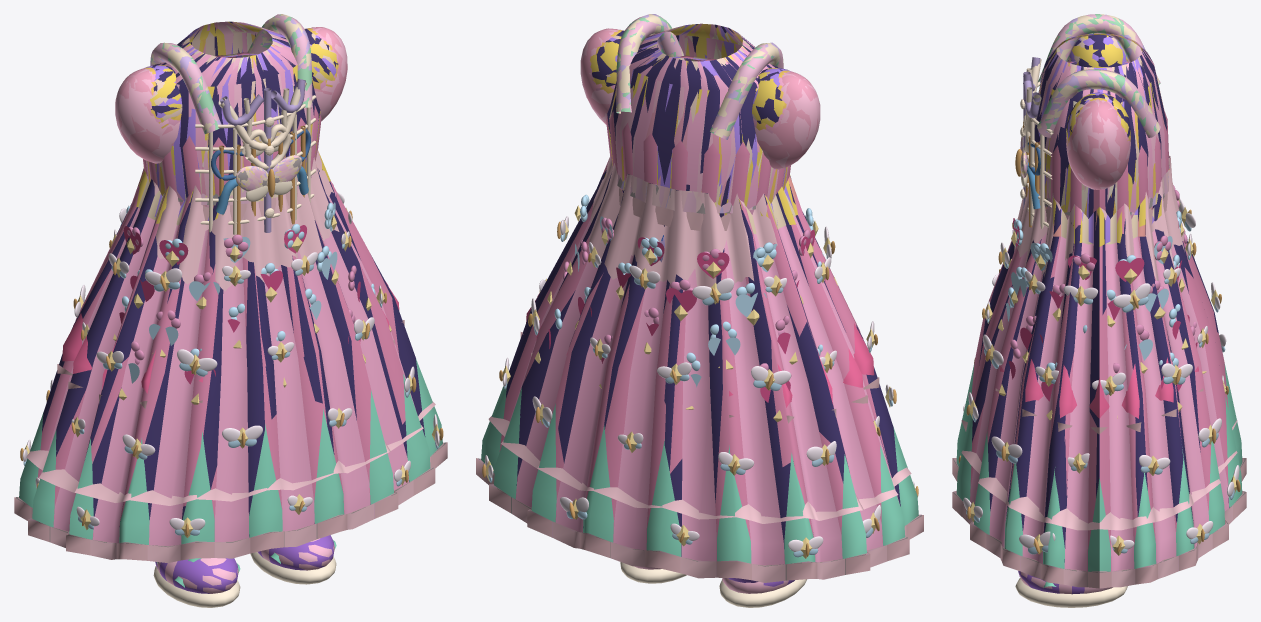
The model's file is wardrobe.glb.
3 renders of one model, left to right at view 1: azimuth 30°, elevation 25°; view 2: azimuth 150°, elevation 25°; view 3: azimuth 270°, elevation 25°, orthographic. The views are drawn at different scales.
Parts seen in each view (by area): view 1: dress_princesa, dress_borboleta, dress_noite, bottom_longa, dress_coracao, dress_flores, shoe_bailarina, dress_rodado, dress_festa, dress_arcoIris, shoe_bota, top_camisaXadrez (+8 smaller); view 2: dress_princesa, dress_borboleta, dress_noite, bottom_longa, dress_coracao, dress_flores, dress_rodado, top_camisaXadrez, shoe_bailarina, dress_festa, bottom_saia, top_blusa (+2 smaller); view 3: dress_princesa, dress_borboleta, dress_noite, bottom_longa, dress_coracao, dress_flores, dress_rodado, top_camisaXadrez, bottom_saia, shoe_bailarina, dress_festa, dress_arcoIris (+4 smaller).
Boxes of the visible parts, x1,y1,x2,y2 form: dress_princesa: (18,21,443,562); dress_borboleta: (20,14,443,557); dress_noite: (16,21,445,547); bottom_longa: (14,192,447,560); dress_coracao: (115,22,360,384); dress_flores: (122,14,375,364); shoe_bailarina: (153,538,336,607); dress_rodado: (113,23,391,404); dress_festa: (145,23,336,220); dress_arcoIris: (137,26,335,211); shoe_bota: (155,535,333,593); top_camisaXadrez: (115,21,347,206); dress_princesa: (480,24,919,582); dress_borboleta: (478,15,921,577); dress_noite: (478,24,921,580); bottom_longa: (476,187,923,580); dress_coracao: (548,24,825,402); dress_flores: (554,14,823,371); dress_rodado: (535,24,837,422); top_camisaXadrez: (581,23,818,215); shoe_bailarina: (620,562,806,607); dress_festa: (609,24,793,225); bottom_saia: (520,206,879,423); top_blusa: (590,24,789,203); dress_princesa: (954,34,1244,587); dress_borboleta: (953,14,1240,572); dress_noite: (953,33,1245,586); bottom_longa: (952,196,1246,588); dress_coracao: (1005,35,1197,401); dress_flores: (1008,14,1196,373); dress_rodado: (998,34,1206,419); top_camisaXadrez: (1046,34,1165,209); bottom_saia: (995,209,1203,434); shoe_bailarina: (1015,572,1127,607); dress_festa: (1021,34,1169,243); dress_arcoIris: (1015,37,1169,236).
Bounding box in the file's own units: 1.5 × 1.91 × 0.9522.
